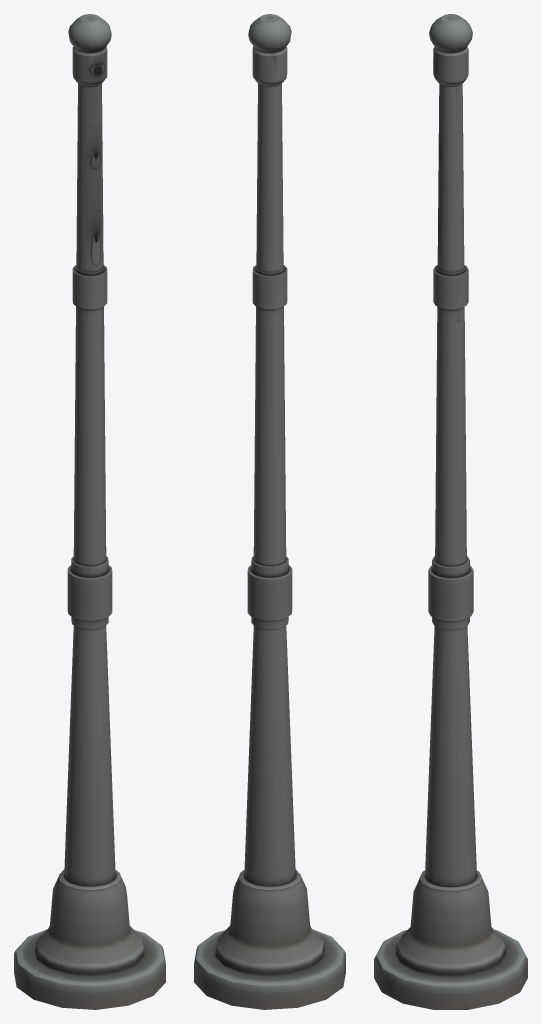
File: Street light.gltf
The picture shows the model from 3 angles, left to right: view 1: azimuth 30°, elevation 25°; view 2: azimuth 150°, elevation 25°; view 3: azimuth 270°, elevation 25°; orthographic projection.
Parts seen in each view (by area): view 1: SM_Street_Light; view 2: SM_Street_Light; view 3: SM_Street_Light.
Boxes of the visible parts, x1,y1,x2,y2 form: SM_Street_Light: [14, 14, 165, 1009]; SM_Street_Light: [194, 14, 345, 1009]; SM_Street_Light: [374, 14, 527, 1009].
Size of the model in its own units: 0.4233 by 2.99 by 0.4342.
